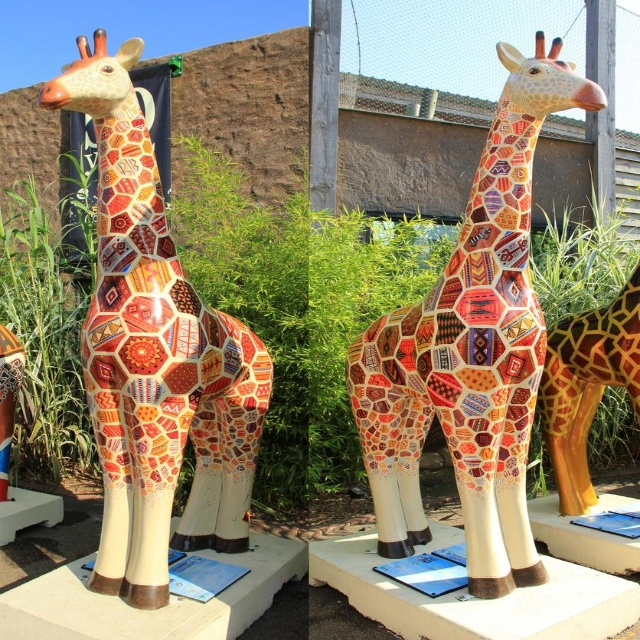Giraffe: (348, 27, 605, 599), (36, 25, 273, 612), (538, 256, 640, 519)
